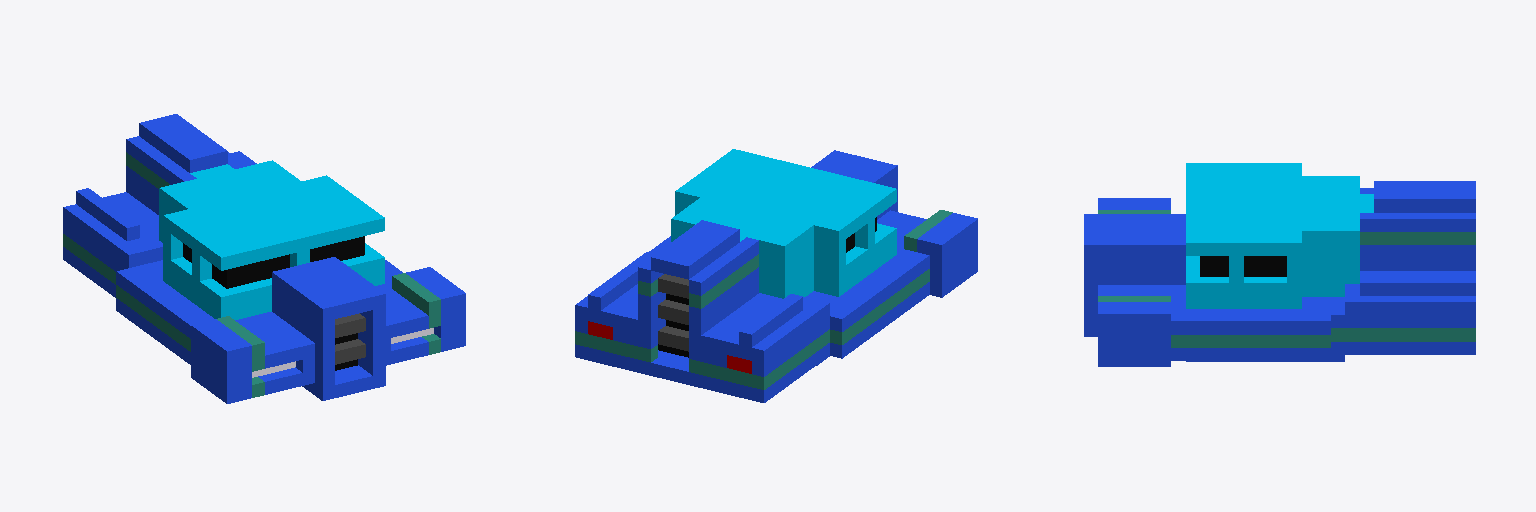
The picture shows the model from 3 angles: view 1: azimuth 30°, elevation 25°; view 2: azimuth 150°, elevation 25°; view 3: azimuth 270°, elevation 25°; orthographic projection.
Parts seen in each view (by area): view 1: object 1; view 2: object 1; view 3: object 1.
Part boxes in pixels (left/top/right/bottom): object 1: left=63, top=114, right=465, bottom=403; object 1: left=575, top=149, right=977, bottom=402; object 1: left=1084, top=163, right=1475, bottom=366.
Bounding box in the file's own units: 1.9 × 1 × 2.7.
Materials: 1 (1 with a texture image).